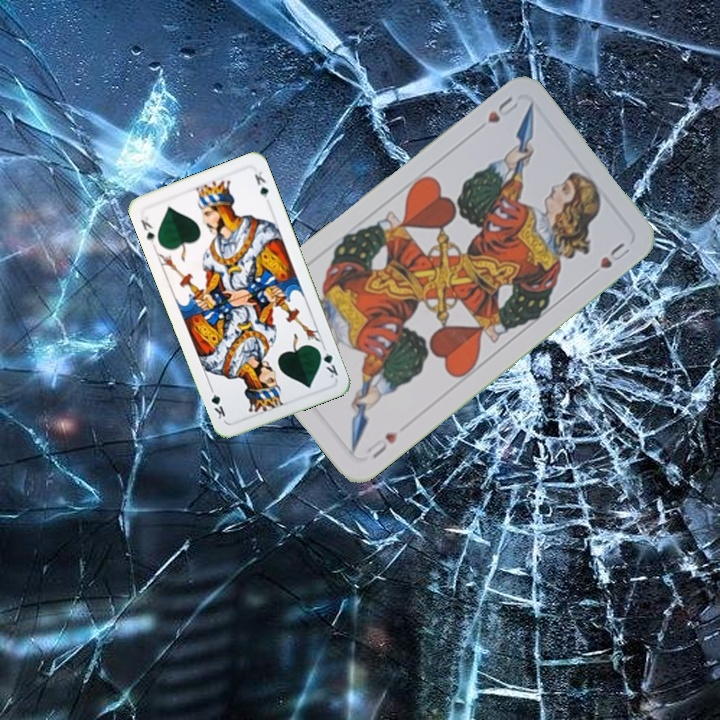GK: (314, 342, 341, 381), (137, 212, 157, 246)
HU: (360, 427, 400, 461), (483, 92, 521, 126)
